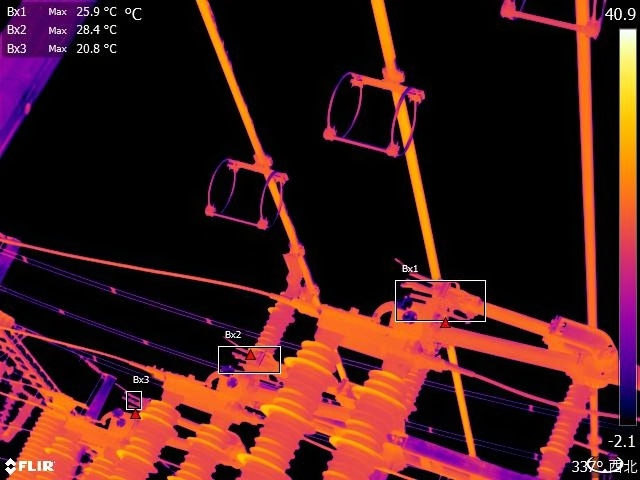circuit breaker: (3, 391, 81, 480)
post insulator: (221, 328, 349, 480), (321, 353, 416, 480), (105, 396, 183, 480), (539, 382, 592, 468), (173, 414, 234, 480), (257, 296, 296, 356), (39, 432, 80, 480), (85, 448, 112, 480)
switch: (399, 257, 610, 388)
